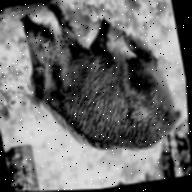boar: (2, 0, 192, 187)
